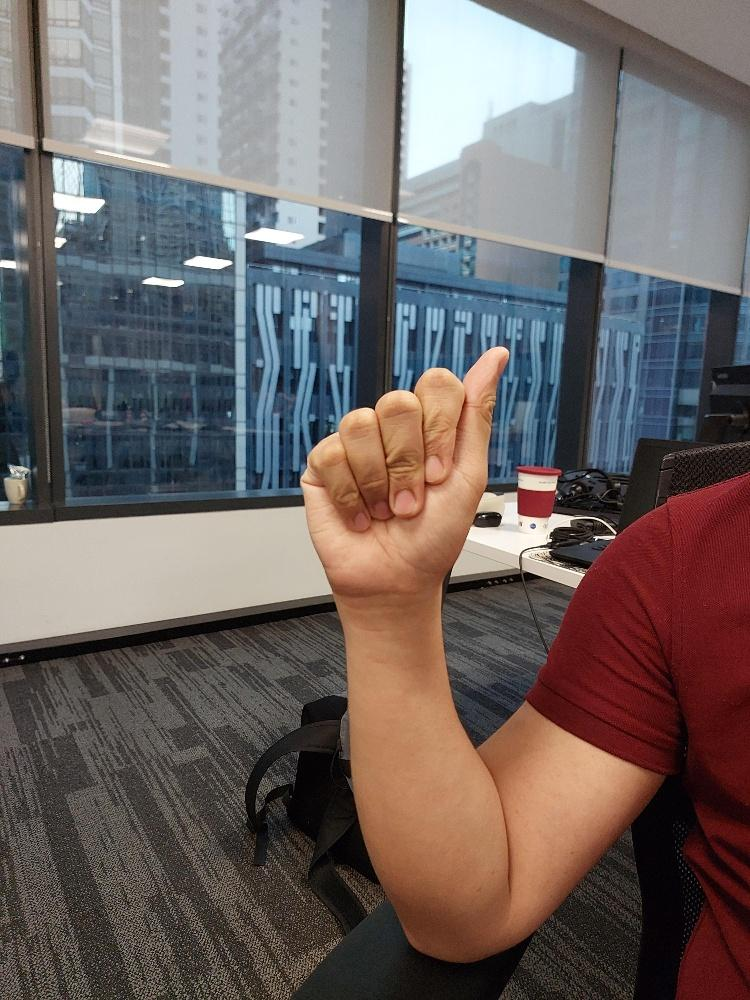a: (294, 339, 513, 600)
